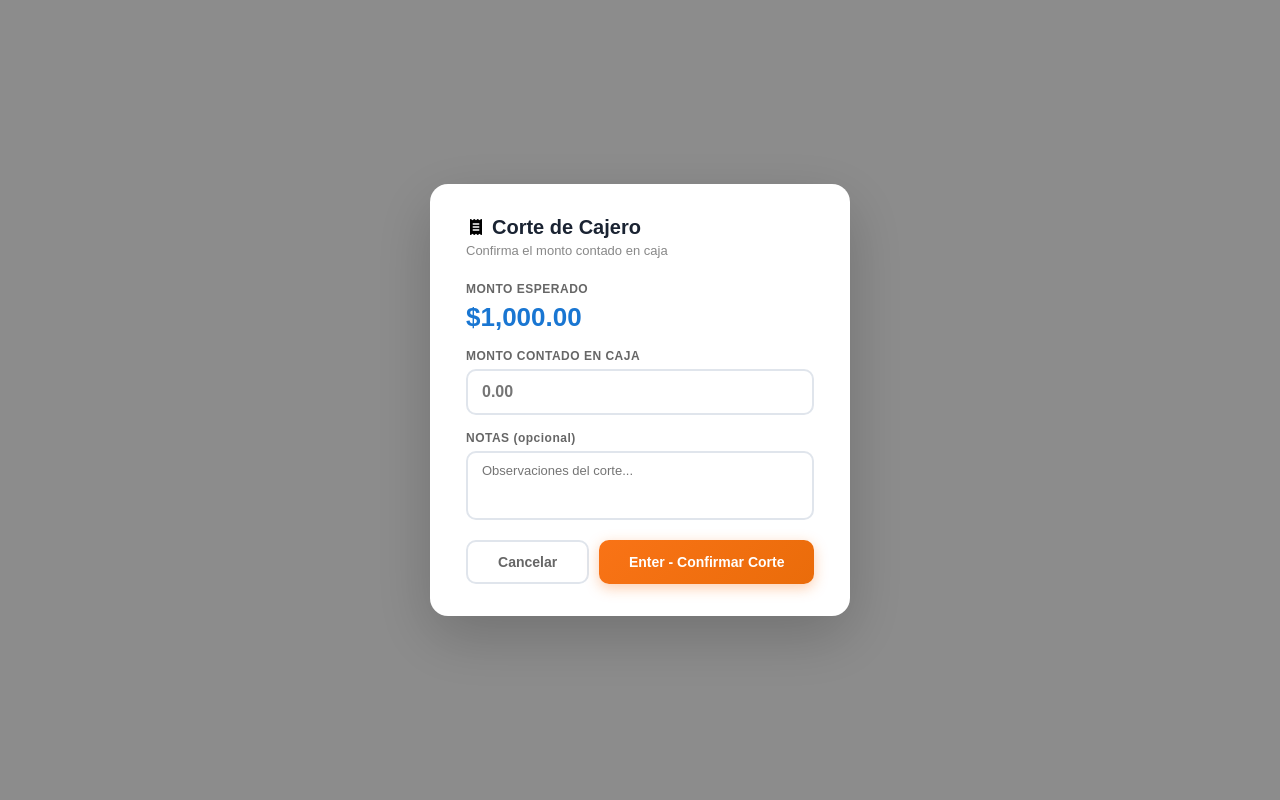
Test case: CashCutModal › muestra el monto esperado y la diferencia en arqueo abierto
Expected: the text "MONTO ESPERADO" is shown, [466,282,588,296]
Expected: the text "$1,000.00" is shown, [466,302,582,332]
Type "1050" into the number field with placeholder "0.00" at (640, 392), box [466,369,814,415]
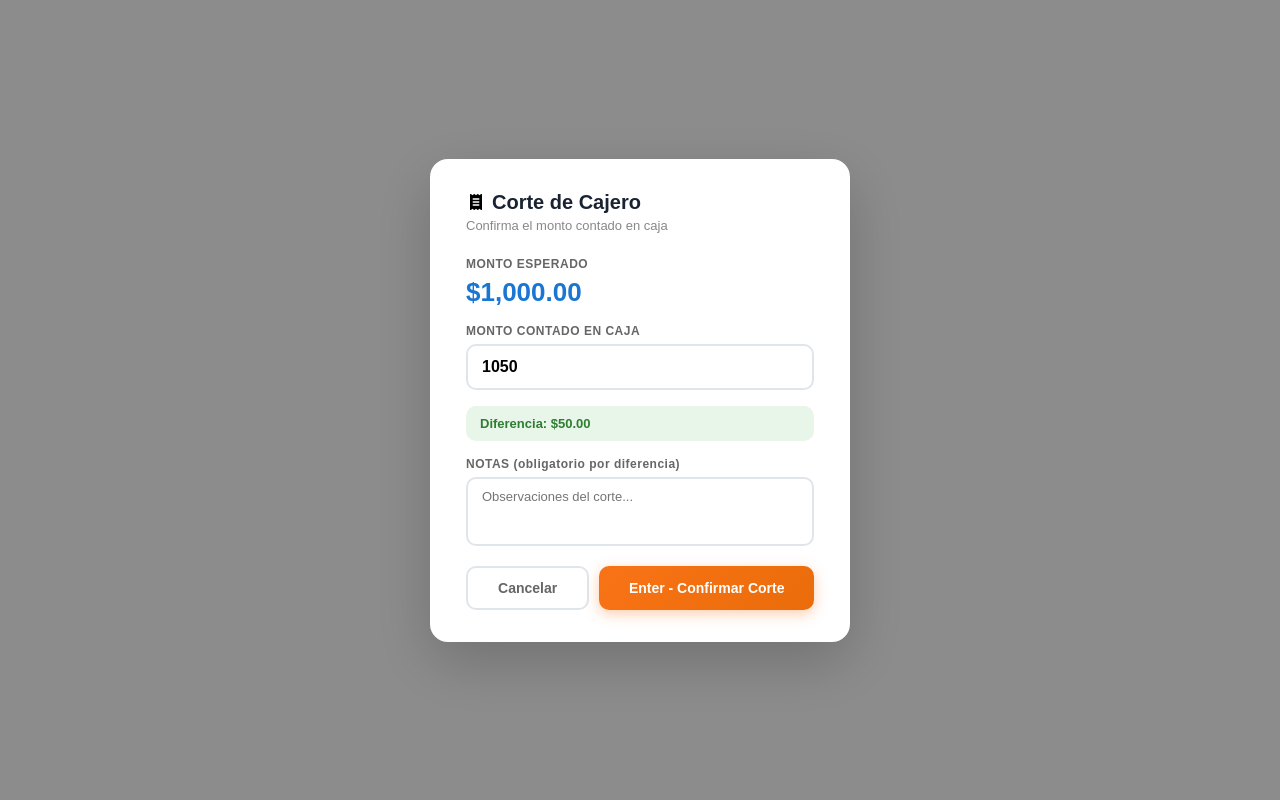
Expected: the text "Diferencia: $50.00" is shown, [466,406,814,440]
